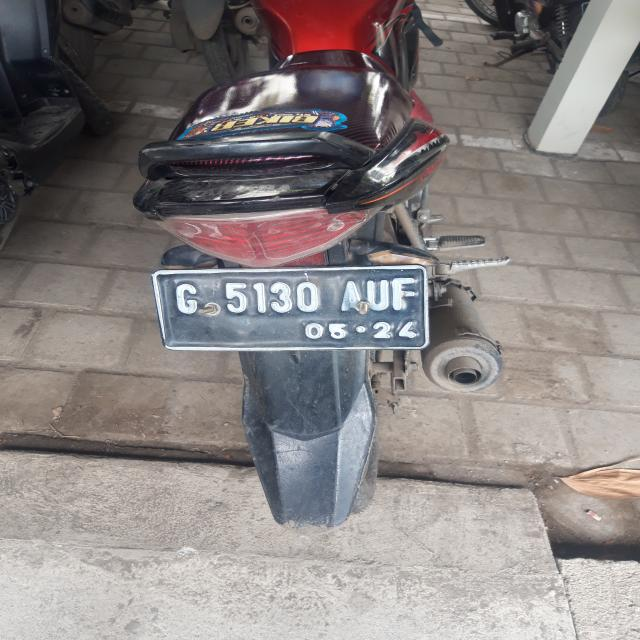plate: (154, 268, 430, 353)
